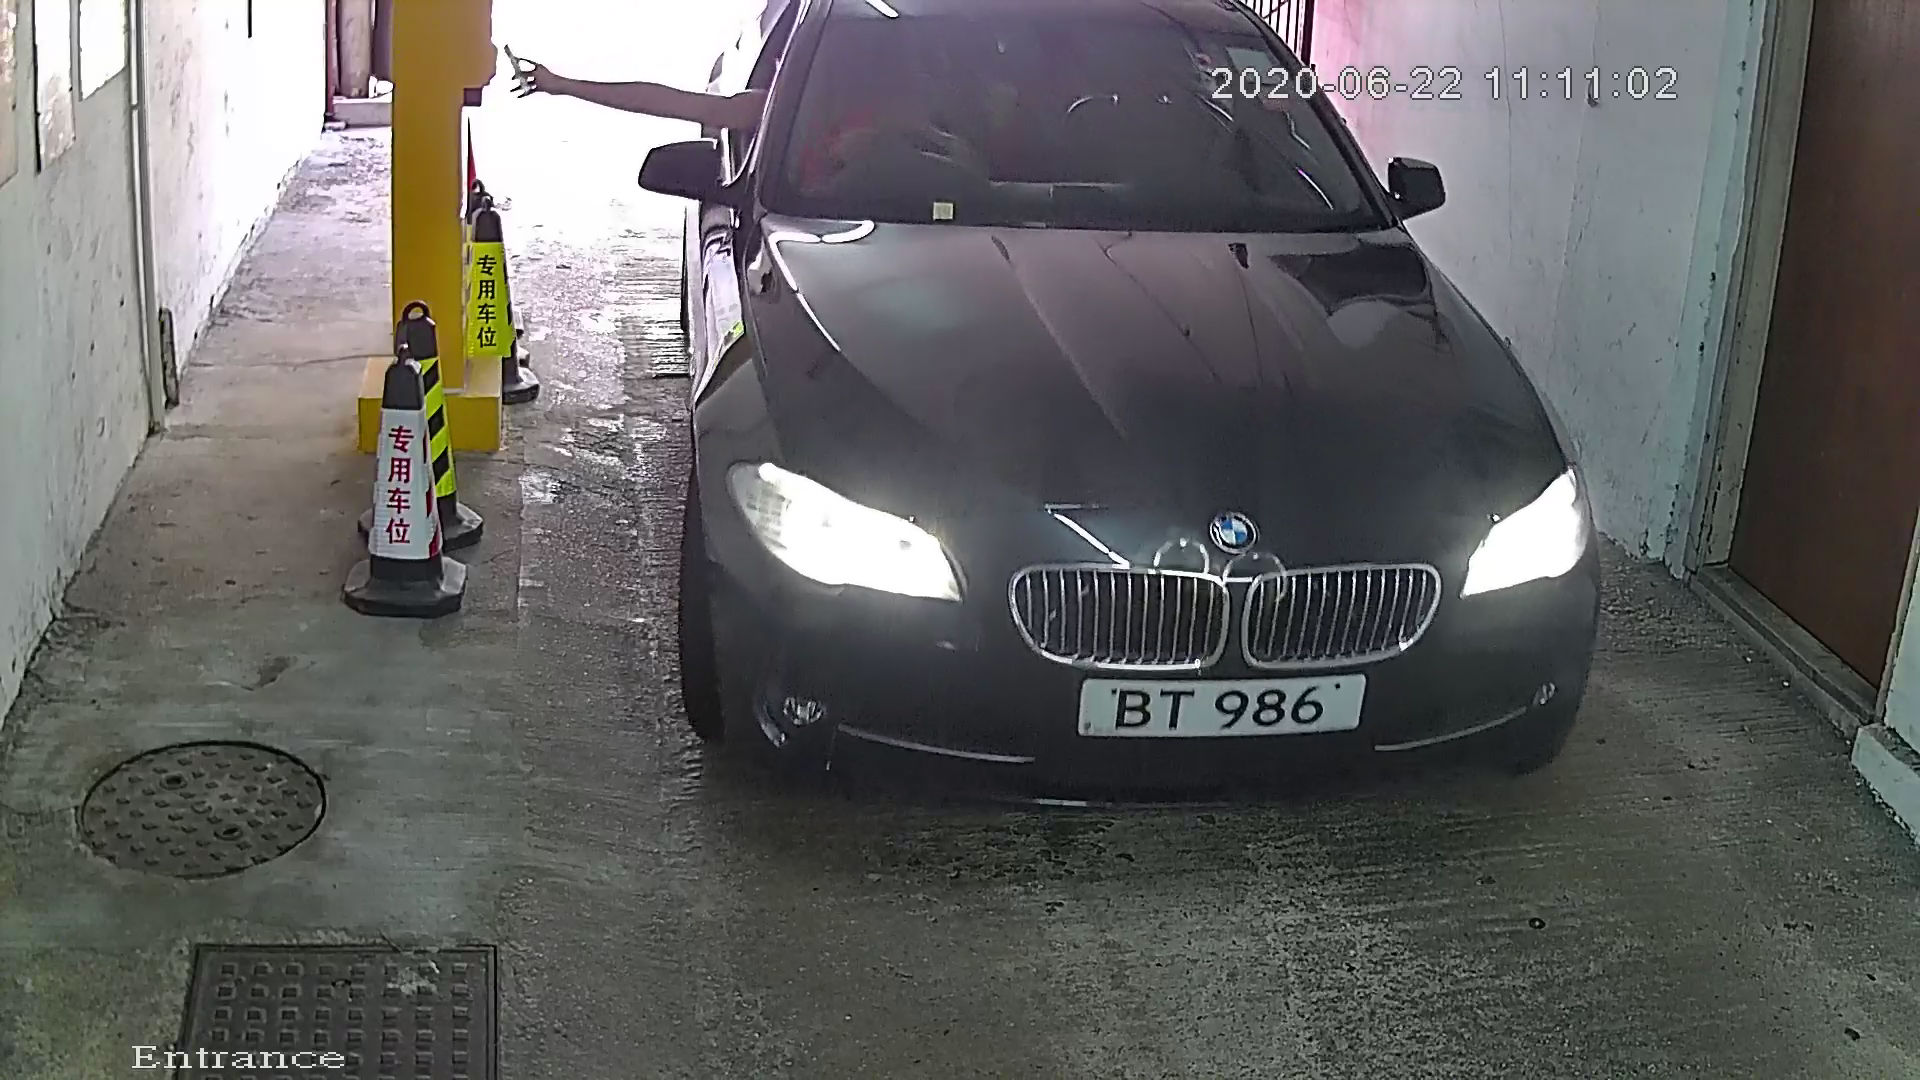privatecar: (560, 3, 1644, 811)
